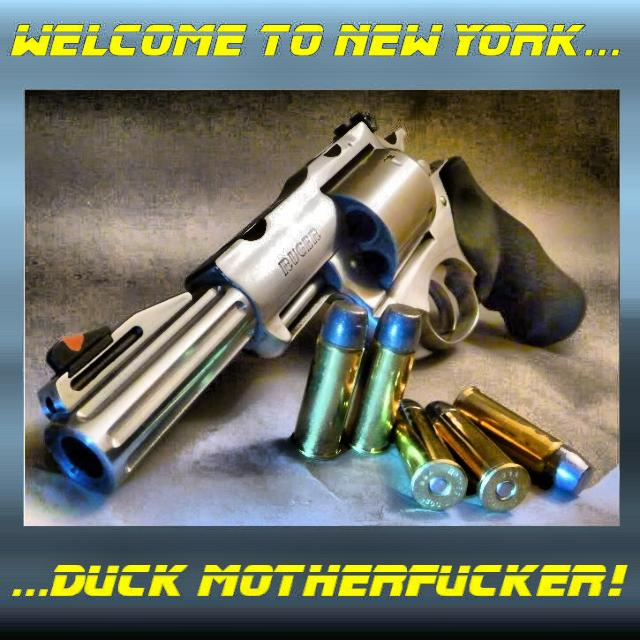pistol: (31, 134, 582, 498)
